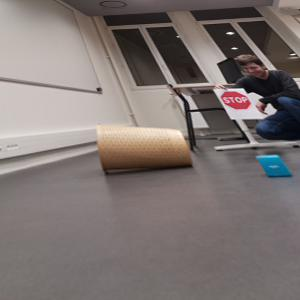stop: (221, 91, 251, 110)
